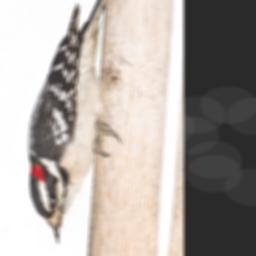Woodpecker: (21, 0, 130, 251)
